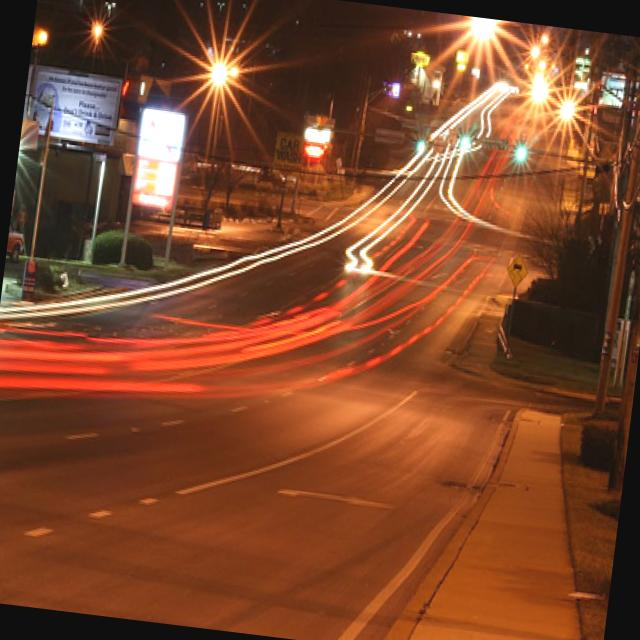Vehicle: (4, 190, 30, 266)
